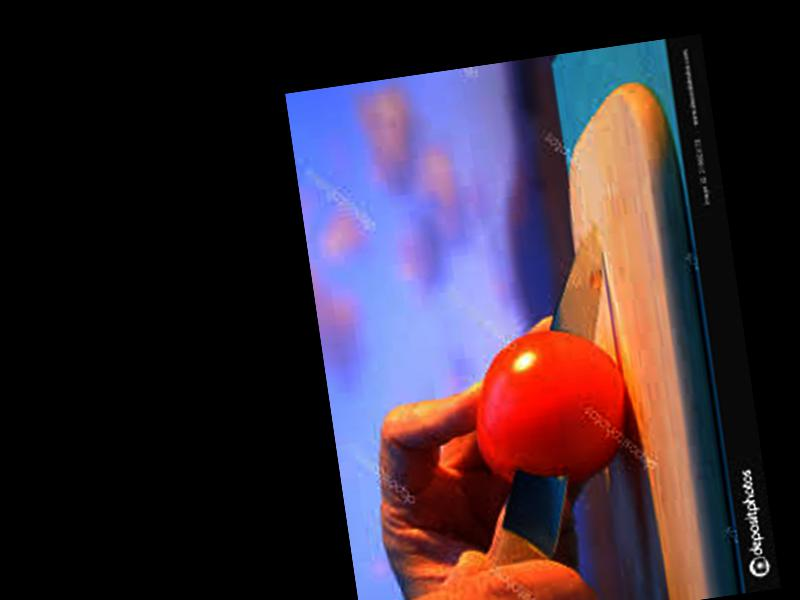Tomato: (465, 318, 640, 496)
